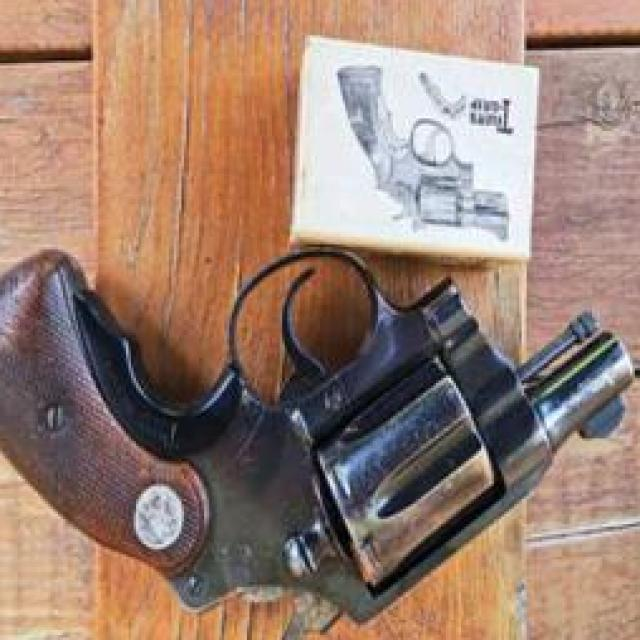pistol: (0, 244, 640, 640), (338, 63, 509, 244)
